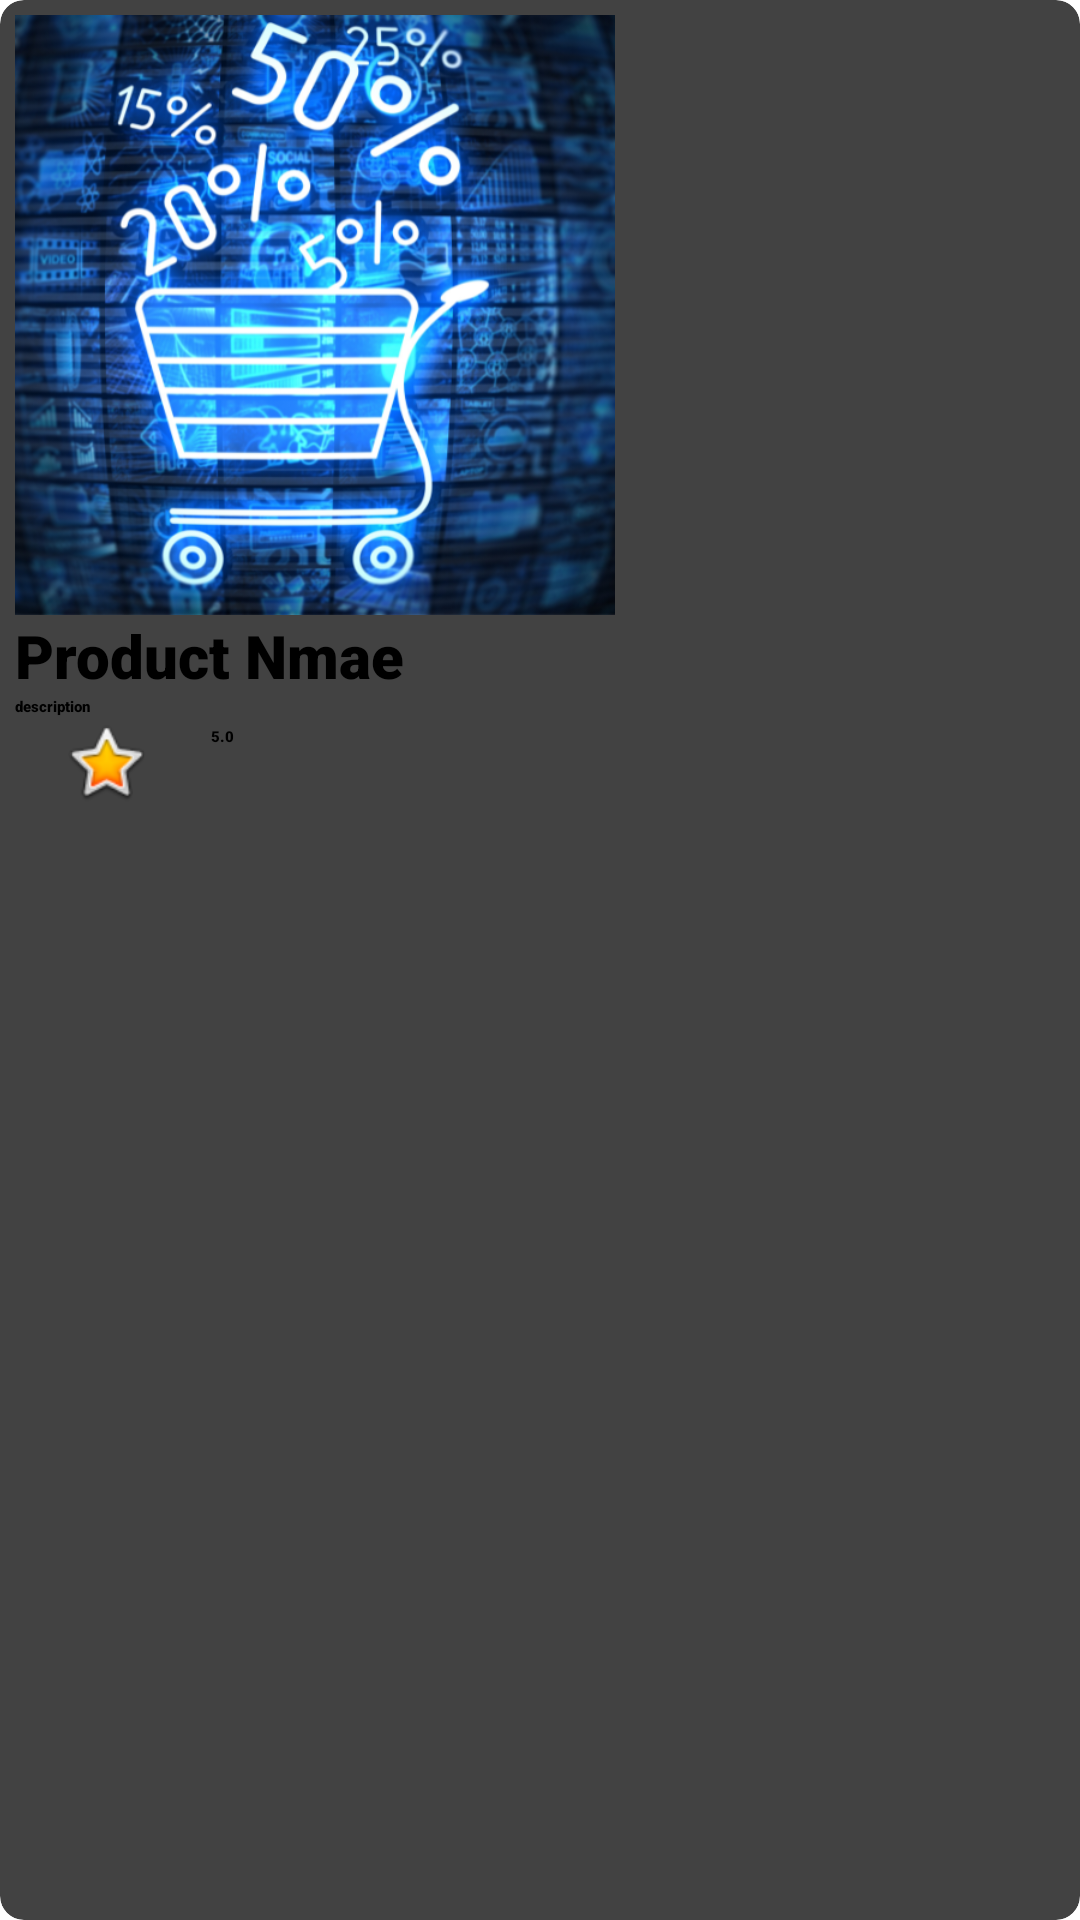

Point at icon controls on the screen. Image size 1080x1920, points as (x,y).
star on: (107,762)
